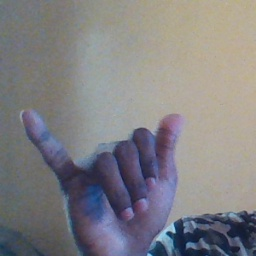J: (15, 93, 187, 246)
